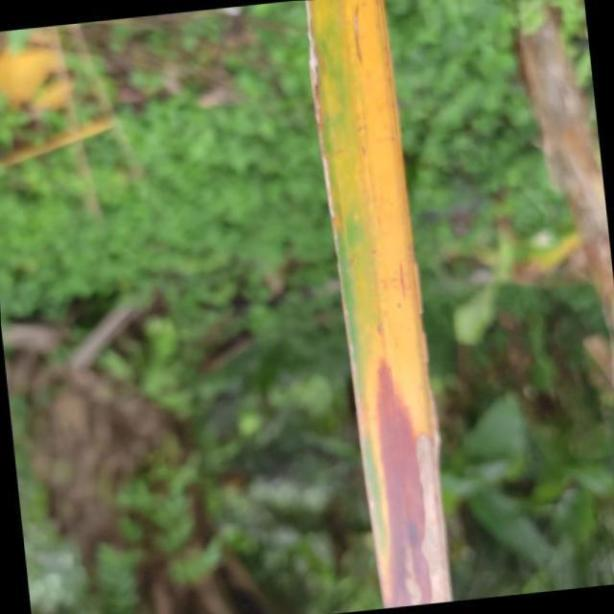Megnesium: (307, 0, 459, 609)
